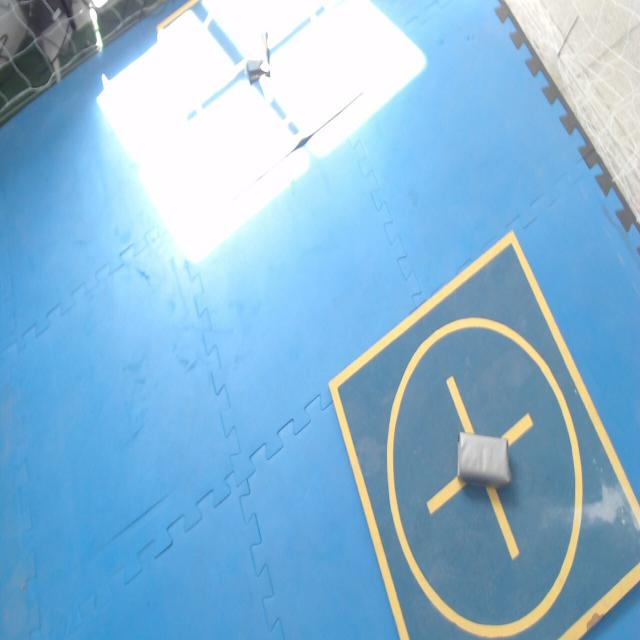horizontal: (458, 431, 510, 487)
vertical: (244, 24, 270, 83)
